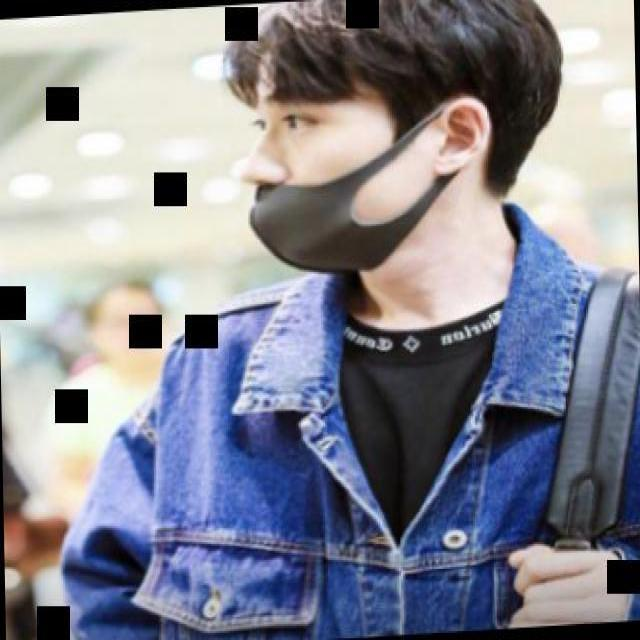hairnet: (232, 131, 454, 271)
